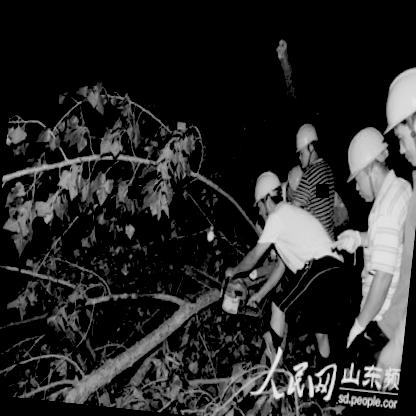helmet: (339, 118, 398, 202), (372, 61, 416, 170), (248, 164, 286, 223), (290, 118, 324, 170), (280, 162, 307, 206)
